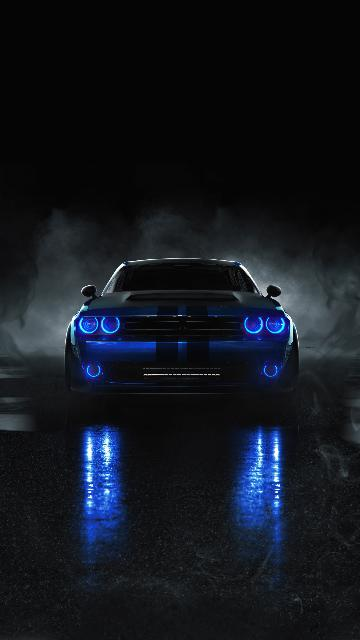dodge: (63, 254, 302, 404)
